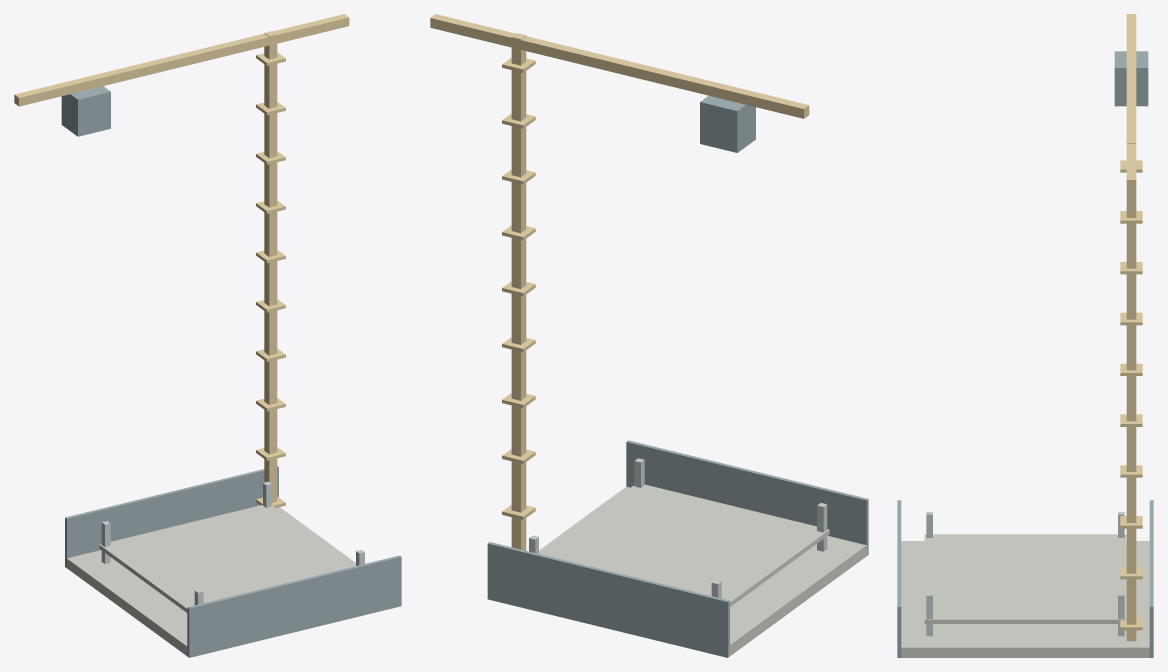
The model's file is remaster_site_1_0.glb.
The picture shows the model from 3 angles, left to right: view 1: azimuth 30°, elevation 25°; view 2: azimuth 150°, elevation 25°; view 3: azimuth 270°, elevation 25°; orthographic projection. The views are drawn at different scales.
Visible parts, largest first — view 1: remaster_site_1_0 roof, remaster_site_1_0 stone, remaster_site_1_0 gold, remaster_site_1_0 metal; view 2: remaster_site_1_0 roof, remaster_site_1_0 stone, remaster_site_1_0 gold, remaster_site_1_0 metal; view 3: remaster_site_1_0 stone, remaster_site_1_0 gold, remaster_site_1_0 roof, remaster_site_1_0 metal.
Part boxes in pixels (x1,y1,x2,y2): remaster_site_1_0 roof: [61, 86, 401, 657]; remaster_site_1_0 stone: [67, 505, 355, 656]; remaster_site_1_0 gold: [14, 14, 349, 508]; remaster_site_1_0 metal: [101, 481, 364, 605]; remaster_site_1_0 roof: [487, 96, 868, 657]; remaster_site_1_0 stone: [539, 484, 867, 656]; remaster_site_1_0 gold: [430, 14, 809, 550]; remaster_site_1_0 metal: [529, 458, 827, 598]; remaster_site_1_0 stone: [901, 534, 1149, 657]; remaster_site_1_0 gold: [1120, 14, 1142, 641]; remaster_site_1_0 roof: [897, 51, 1153, 657]; remaster_site_1_0 metal: [926, 512, 1124, 636].
Bounding box in the file's own units: 14 × 20 × 9.14.
